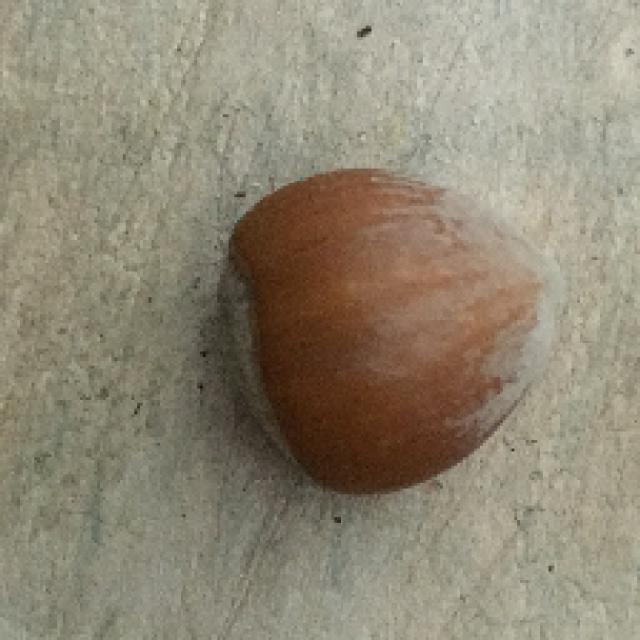QualityHazelnut: (212, 169, 565, 494)
